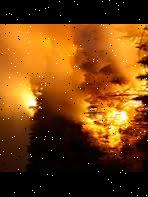fire: (70, 25, 148, 158)
